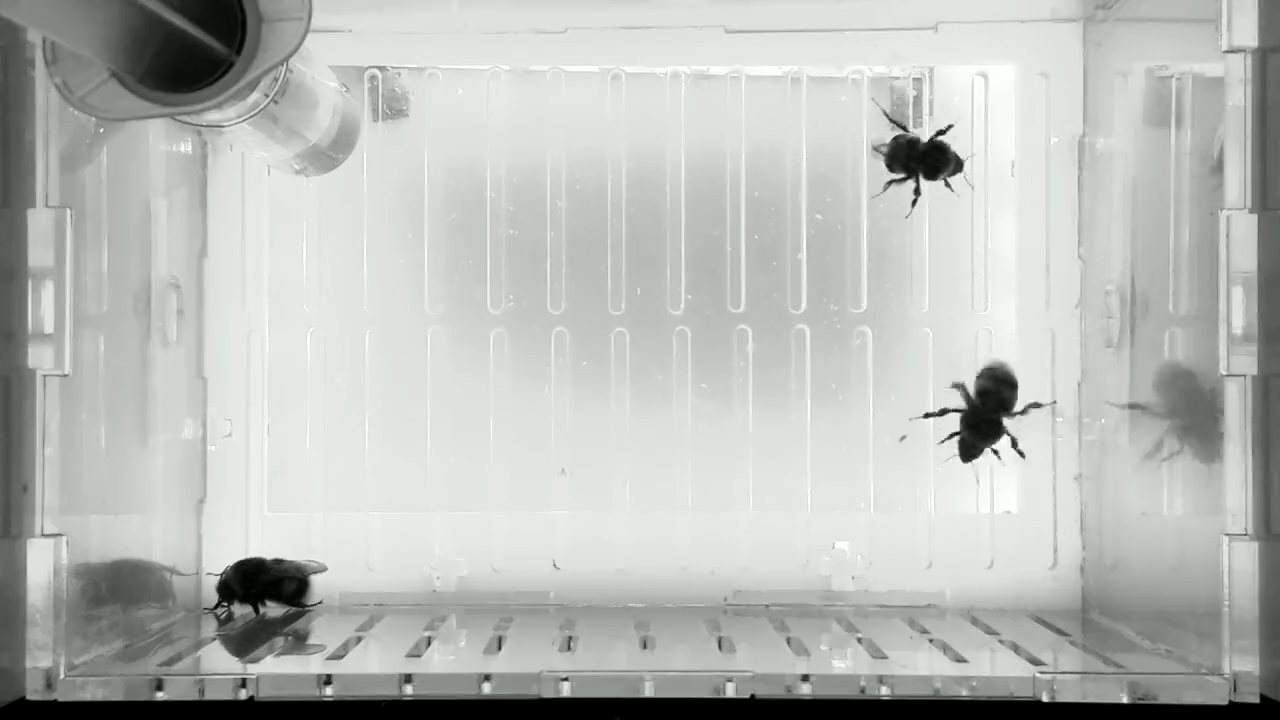bee: (902, 353, 1066, 488), (857, 91, 979, 223), (199, 550, 333, 620)
feeder: (213, 39, 369, 183)
